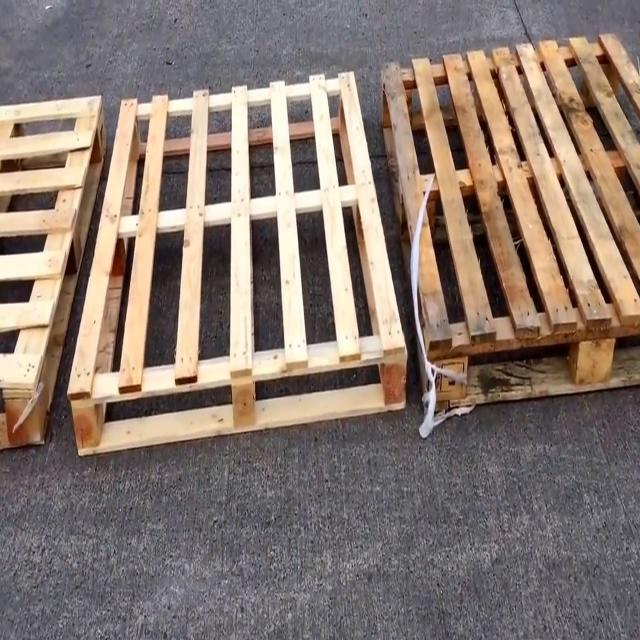Palette: (67, 58, 410, 470), (372, 29, 640, 414), (0, 80, 108, 452)
